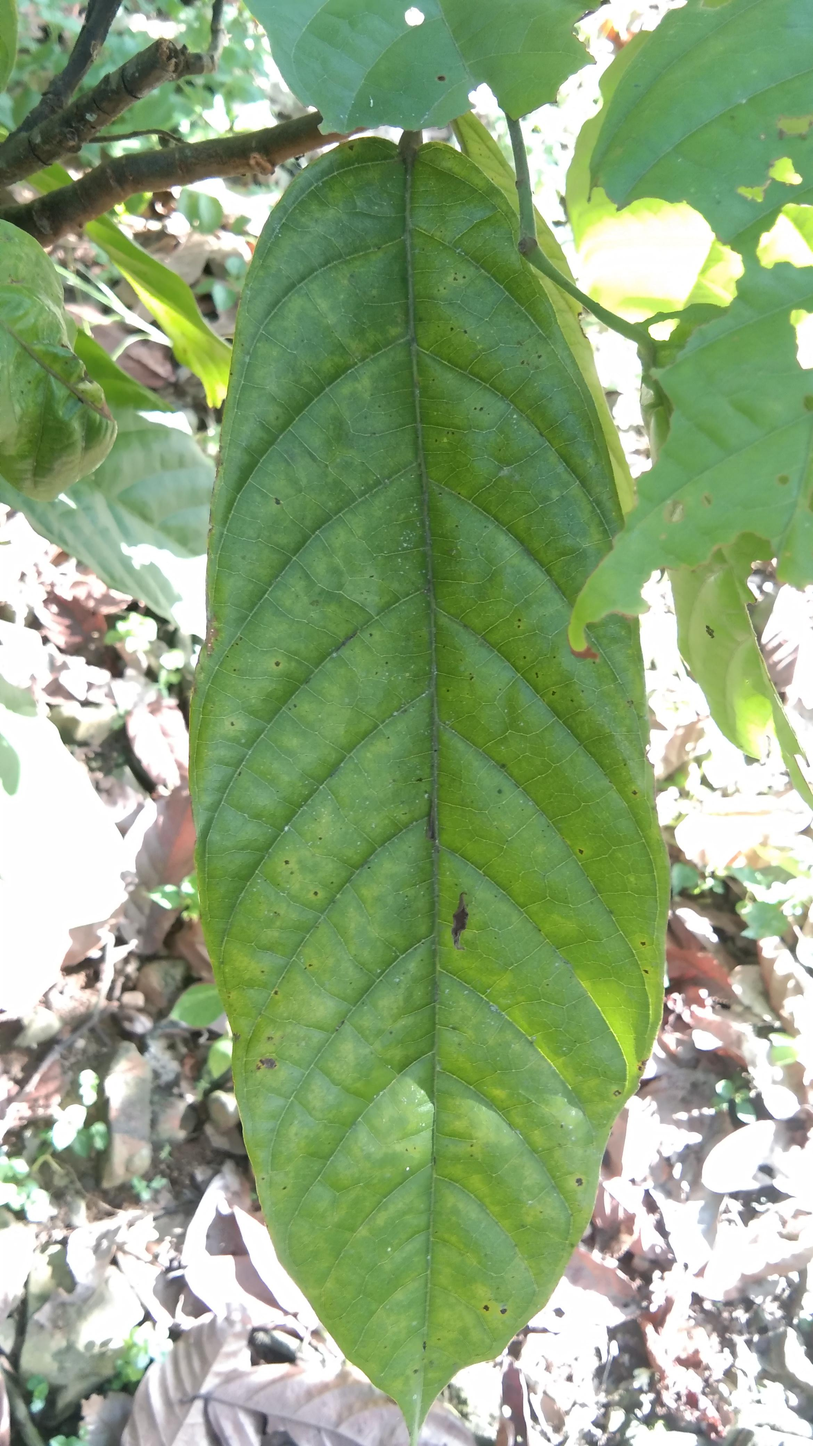deficiencia_potasio: (184, 125, 688, 1429)
